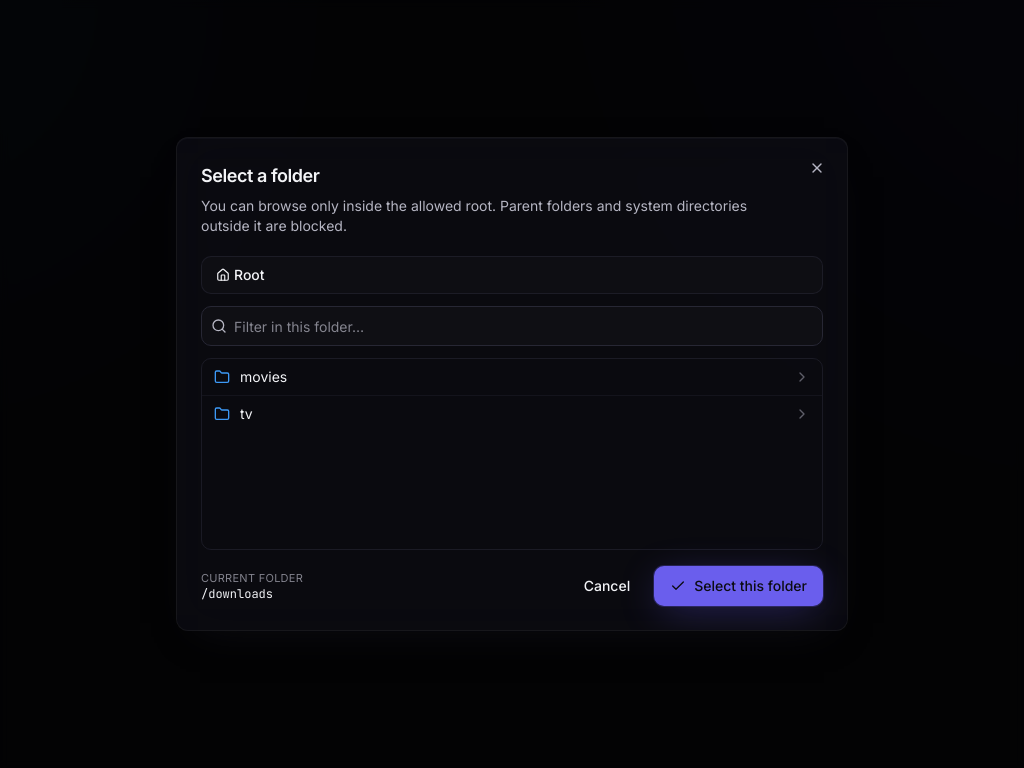
Test: DirectoryPicker › going back to Root returns to the top of the allowed tree
The width and height of the screenshot is (1024, 768).
Click the button "movies" at (264, 376), box [202, 359, 822, 395]
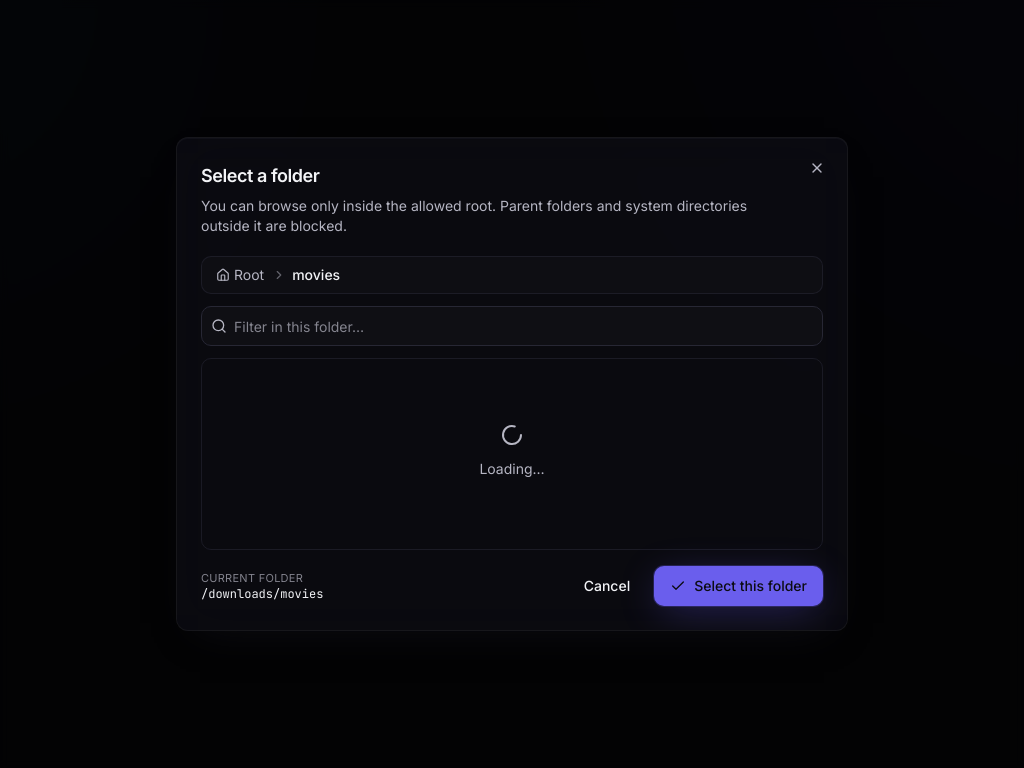
Click the button titled "Root folder" at (240, 275), box [210, 263, 270, 287]
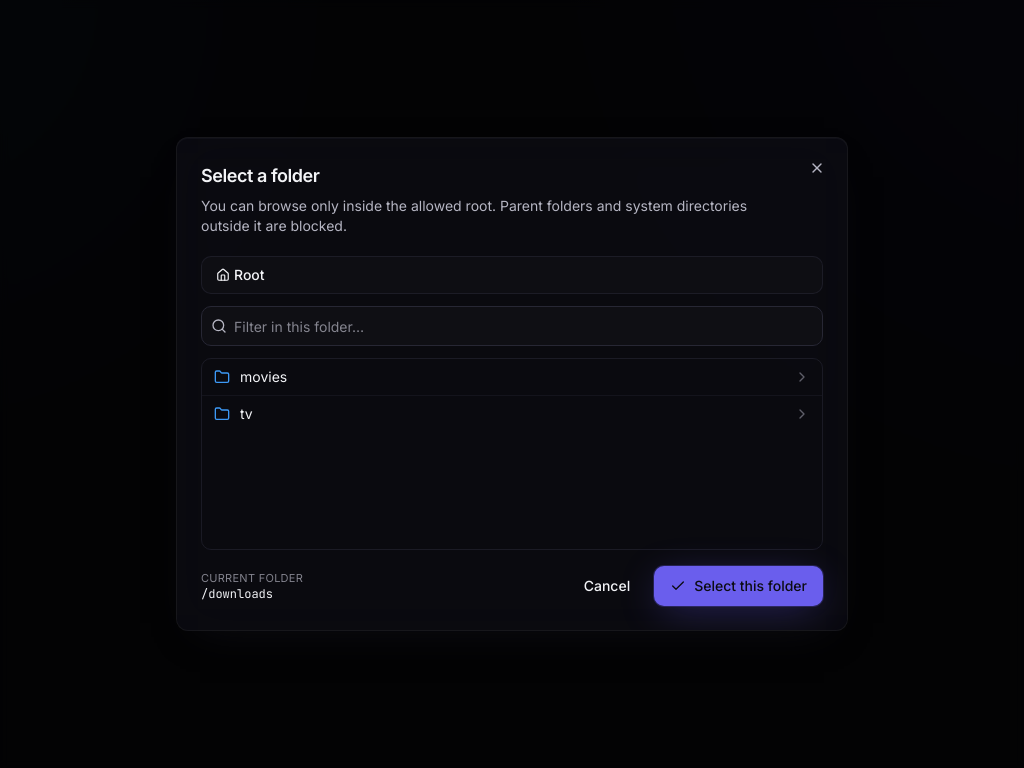
expect the text "tv" is shown: met, box [240, 405, 253, 422]
